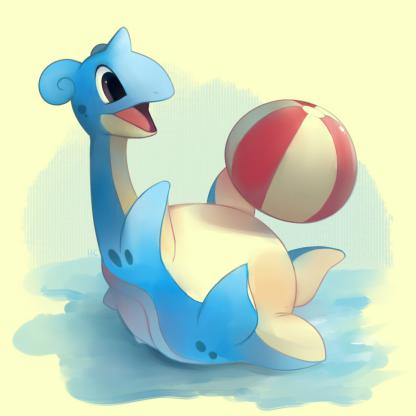Lapras: (25, 39, 346, 384)
